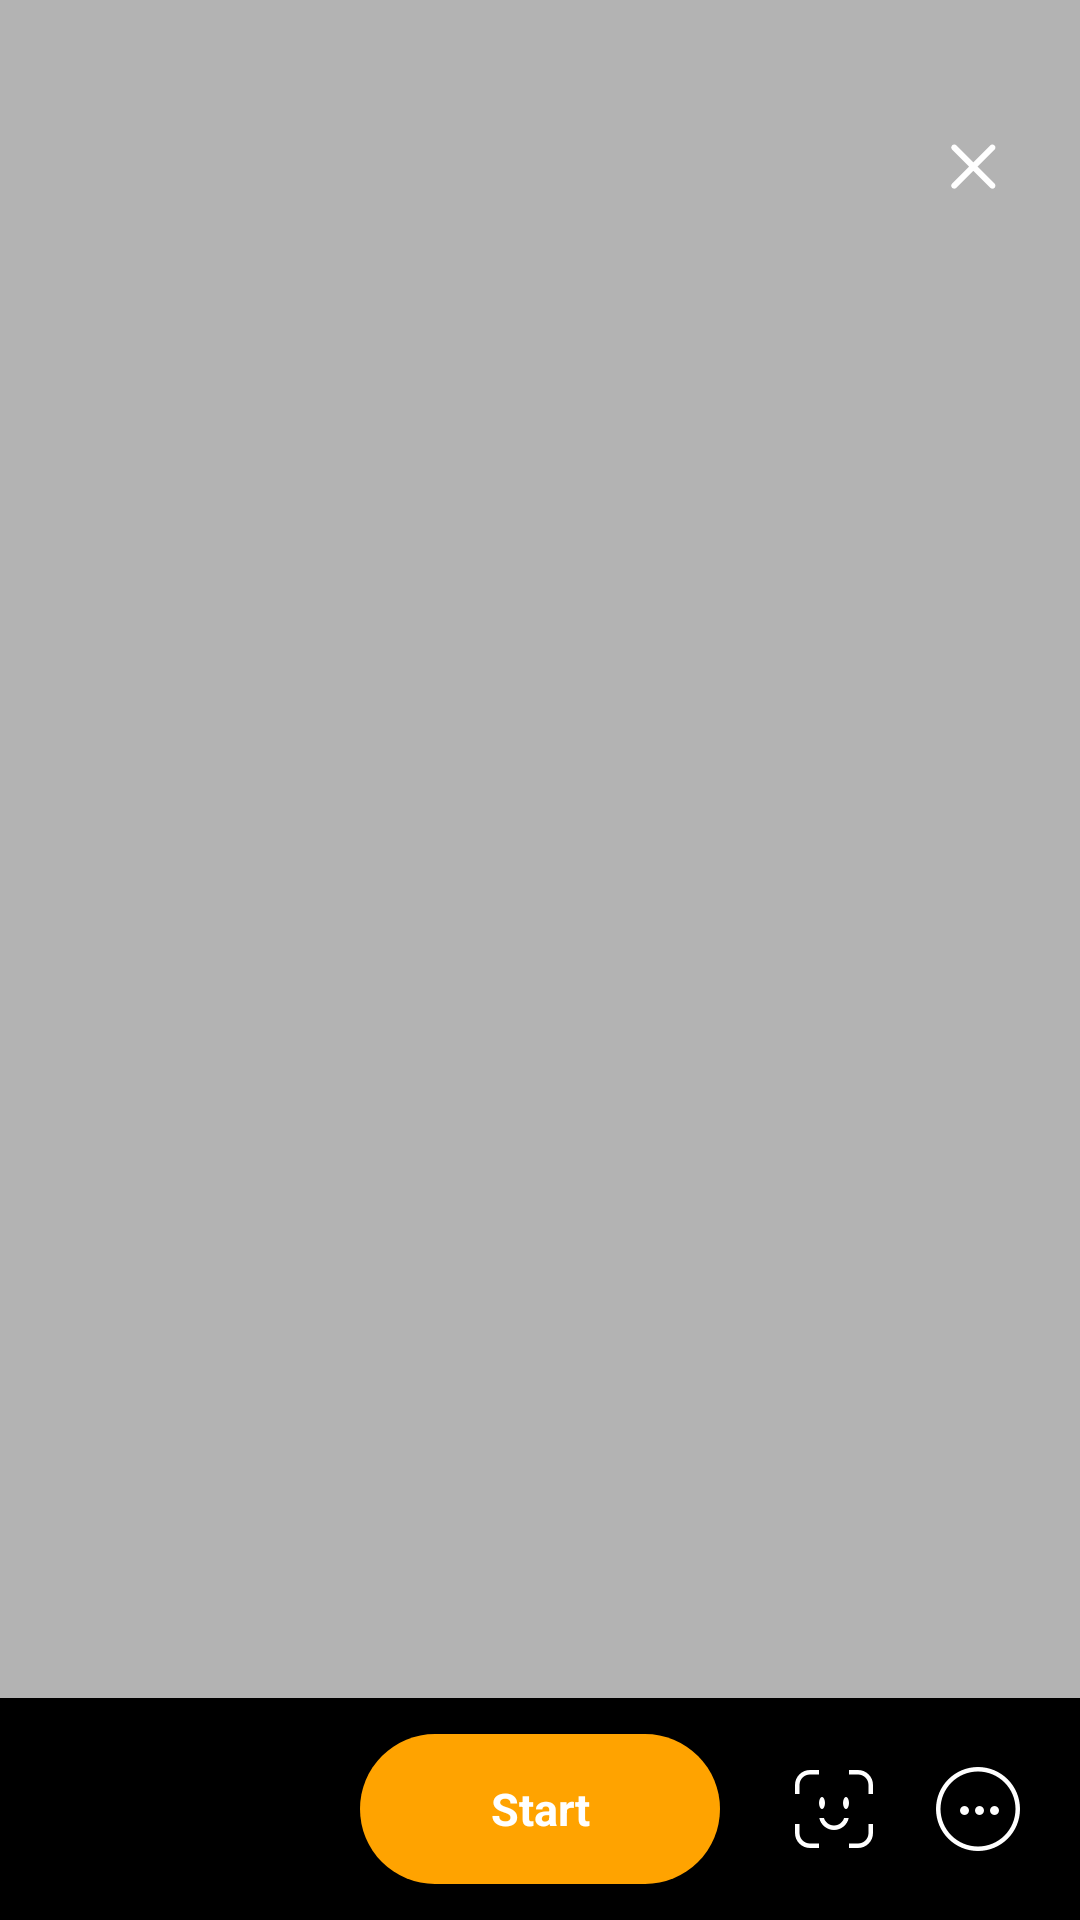

Named icons in this screenshot (1080*1920) and their centers, point (x, y):
close: point (973, 166)
etc option: point (978, 1809)
